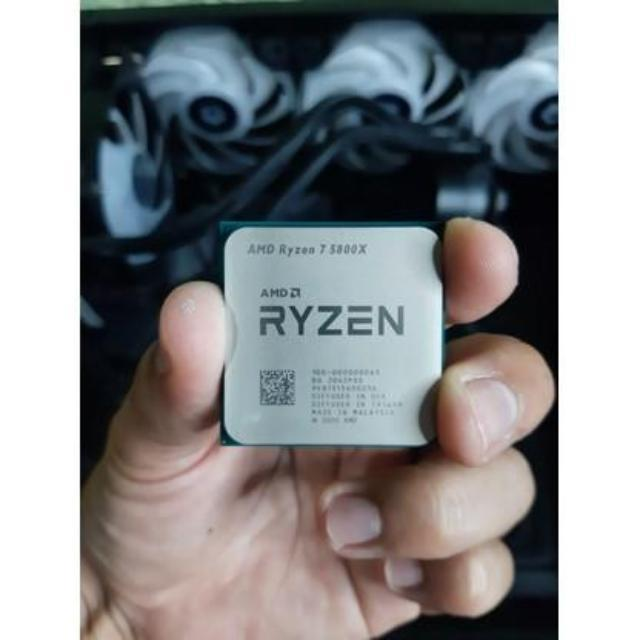CPU: (217, 214, 446, 443)
